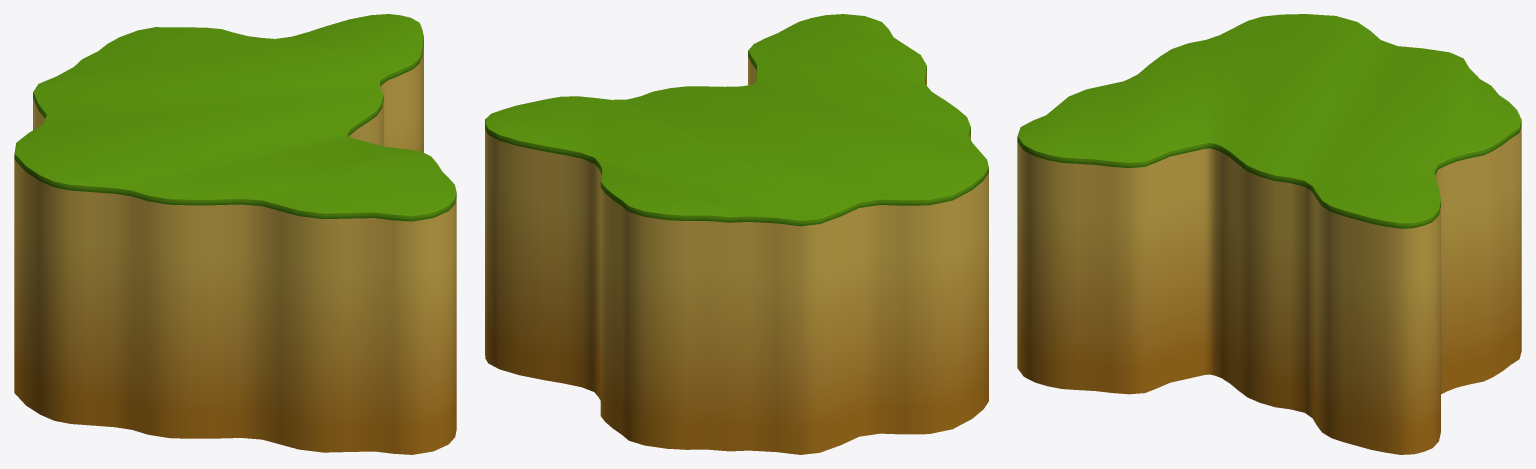
The model's file is LM100NAT02.fbx.
The picture shows the model from 3 angles, left to right: view 1: azimuth 30°, elevation 25°; view 2: azimuth 150°, elevation 25°; view 3: azimuth 270°, elevation 25°; orthographic projection. The views are drawn at different scales.
Parts seen in each view (by area): view 1: LOD0; view 2: LOD0; view 3: LOD0.
Part boxes in pixels (left/top/right/bottom): LOD0: left=14, top=14, right=456, bottom=454; LOD0: left=485, top=14, right=988, bottom=454; LOD0: left=1017, top=14, right=1521, bottom=454.
Size of what is drawn, in the model's own units: 9671 by 9851 by 5000.
